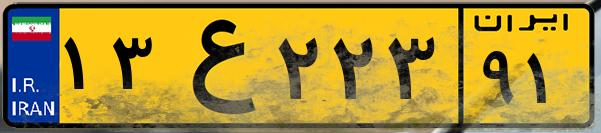1: (57, 26, 110, 100), (525, 38, 570, 115)
2: (270, 28, 330, 110), (330, 28, 385, 110)
3: (385, 28, 445, 110), (110, 28, 158, 98)
9: (475, 38, 525, 113)
ع: (158, 12, 270, 120)
